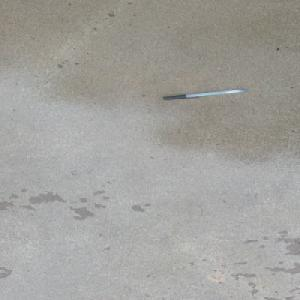Pen: (161, 87, 247, 100)
